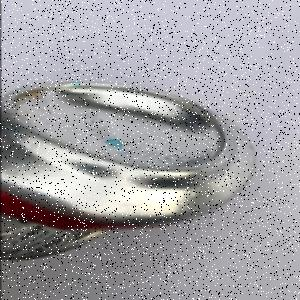Can: (2, 82, 258, 262)
